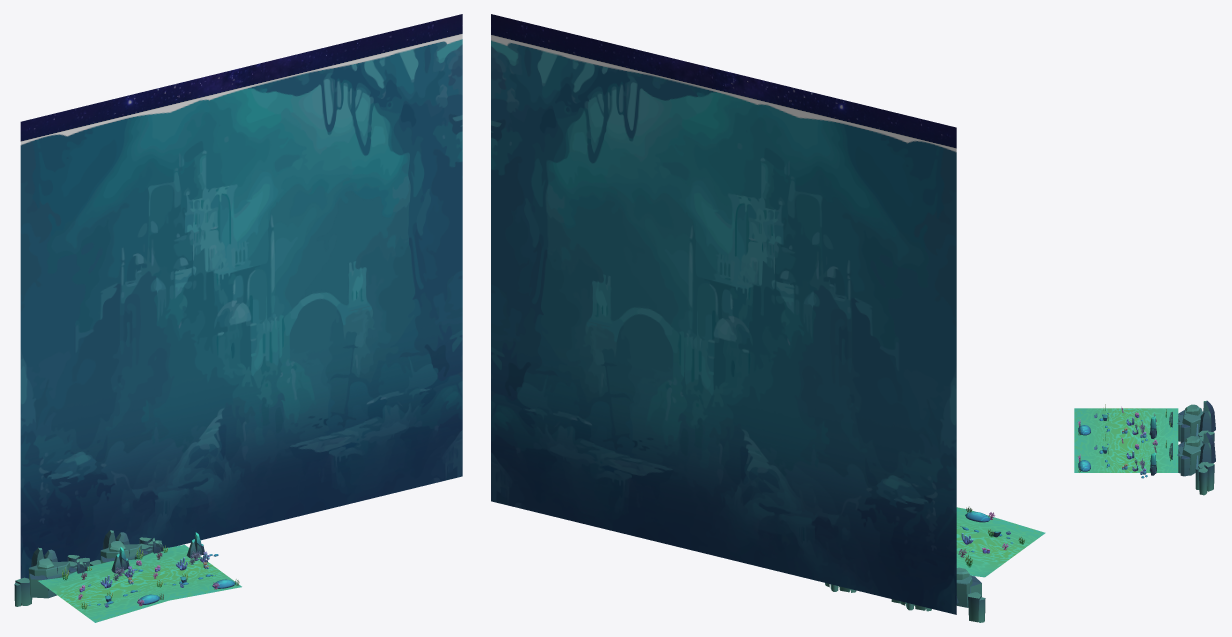
File: Map_Atlantis City_Model.FBX
3 renders of one model, left to right at view 1: azimuth 30°, elevation 25°; view 2: azimuth 150°, elevation 25°; view 3: azimuth 270°, elevation 25°, orthographic. The views are drawn at different scales.
Visible parts, largest first — view 1: back ground007, suface001, object001; view 2: back ground007, suface001, object001; view 3: suface001, object001.
Boxes of the visible parts, bbox=[...] form: back ground007: bbox=[20, 14, 462, 578]; suface001: bbox=[38, 544, 241, 622]; object001: bbox=[14, 530, 239, 609]; back ground007: bbox=[491, 14, 956, 614]; suface001: bbox=[956, 507, 1045, 577]; object001: bbox=[825, 506, 1024, 622]; suface001: bbox=[1074, 408, 1178, 472]; object001: bbox=[1078, 400, 1215, 495].
Bounding box in the file's own units: 10568 × 10428 × 3182.
